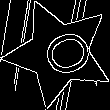O_SW: (26, 23, 91, 83)
